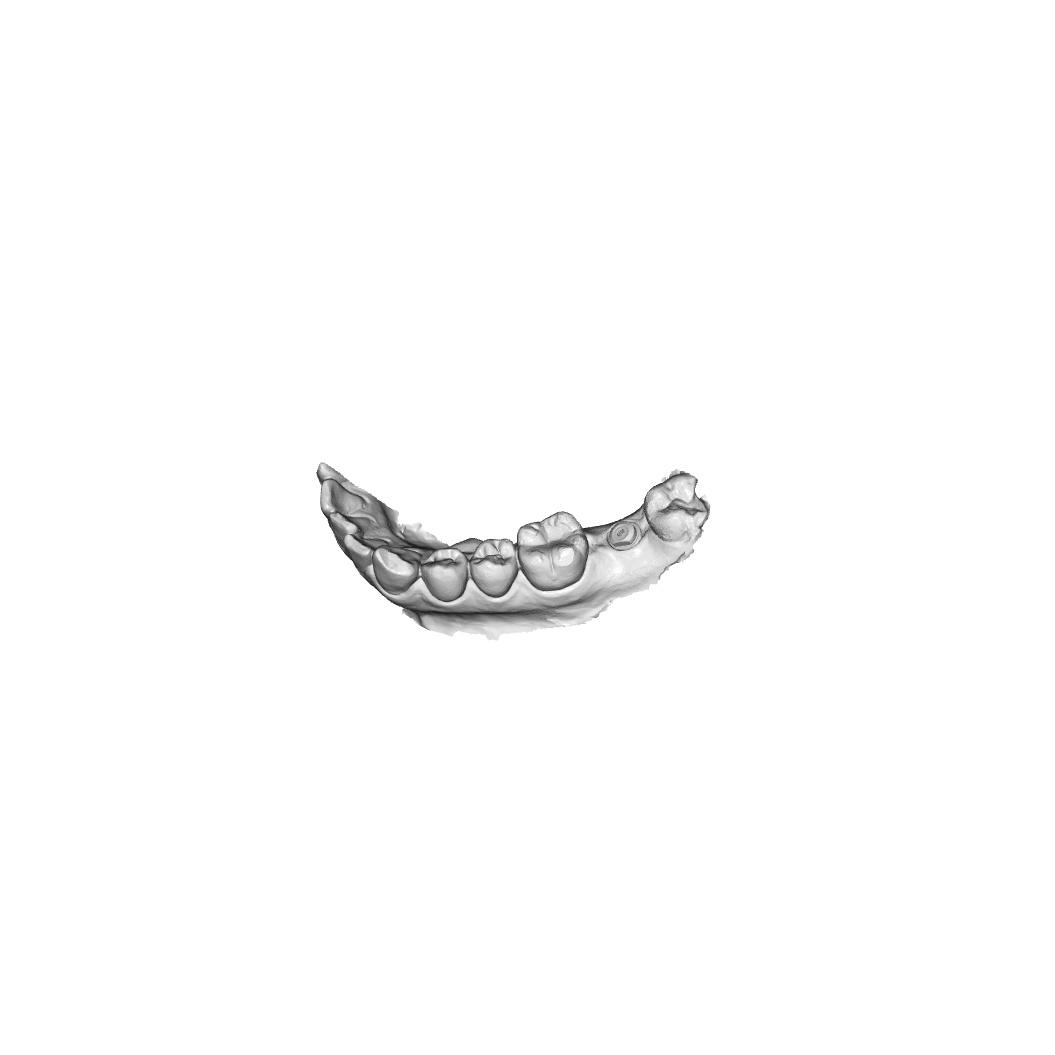canine: (371, 543, 423, 595)
implant: (606, 518, 643, 552)
incisor: (318, 477, 365, 521), (343, 532, 390, 573), (327, 510, 375, 546)
molar: (515, 510, 592, 592), (642, 472, 711, 543)
premolar: (469, 537, 519, 599), (419, 547, 470, 603)
